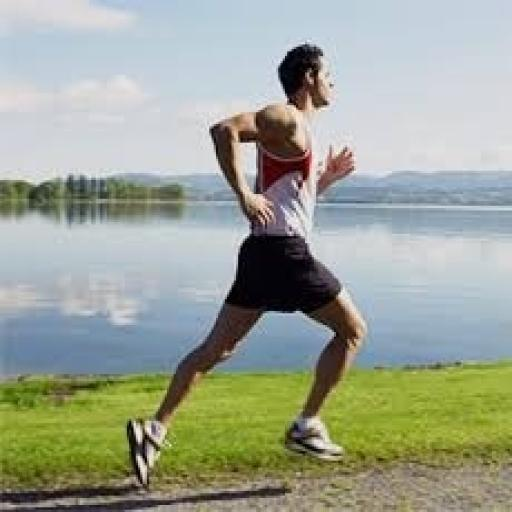running: (122, 40, 372, 491)
